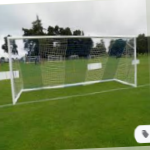goals: (6, 34, 139, 106)
